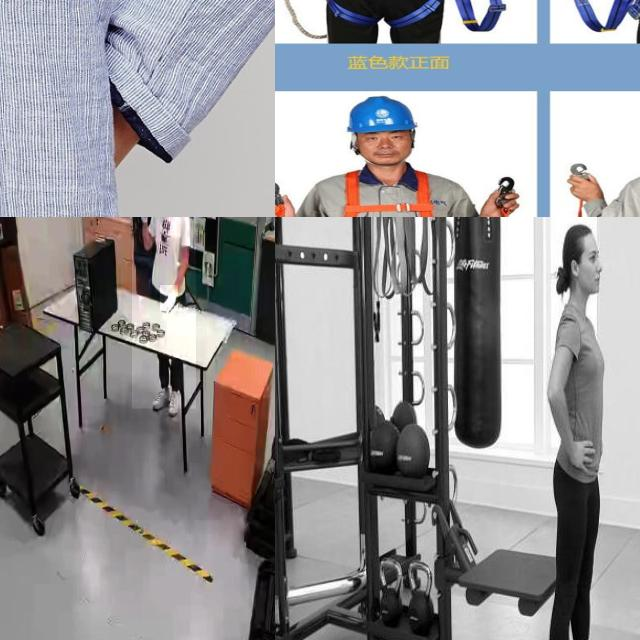Harness: (333, 163, 454, 217)
No_Ear-Protection: (564, 254, 582, 285)
No_Glasses: (362, 134, 405, 146)
face_nomask: (586, 265, 614, 296)
hand_glove: (160, 285, 178, 312), (139, 217, 152, 229)
hand_noglove: (556, 426, 599, 486)
person: (545, 222, 613, 640), (131, 217, 196, 409)
shoes: (167, 386, 183, 419), (152, 382, 166, 415)
